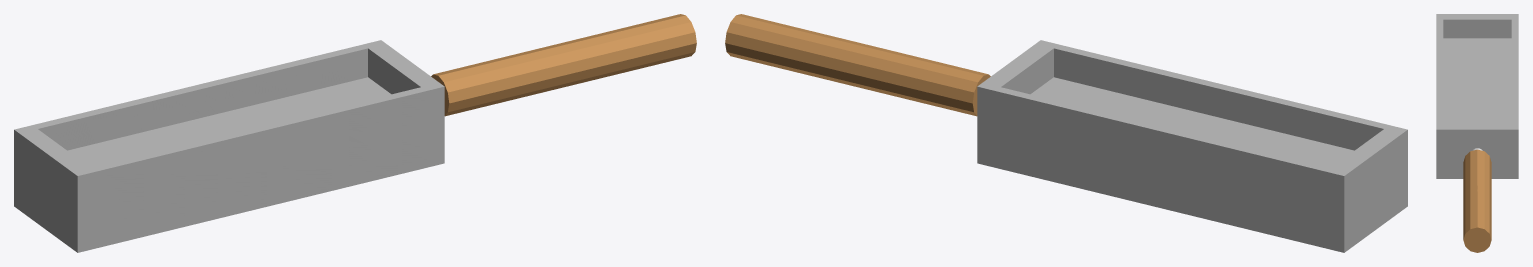
The model's file is IngotGPT.fbx.
3 views of the same model, side by side, from view 1: azimuth 30°, elevation 25°; view 2: azimuth 150°, elevation 25°; view 3: azimuth 270°, elevation 25° (orthographic). The views are drawn at different scales.
Visible parts, largest first — view 1: Cube, Cylinder; view 2: Cube, Cylinder; view 3: Cube, Cylinder.
Boxes of the visible parts, left/top/right/bottom form: Cube: left=14, top=40, right=444, bottom=252; Cylinder: left=431, top=14, right=696, bottom=116; Cube: left=977, top=40, right=1407, bottom=252; Cylinder: left=725, top=14, right=990, bottom=116; Cube: left=1436, top=14, right=1518, bottom=178; Cylinder: left=1463, top=149, right=1491, bottom=252.
Bounding box in the file's own units: 349 × 40 × 60.
